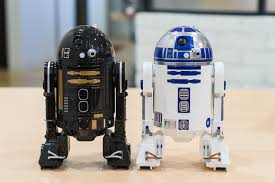r2d2: (136, 25, 229, 169)
